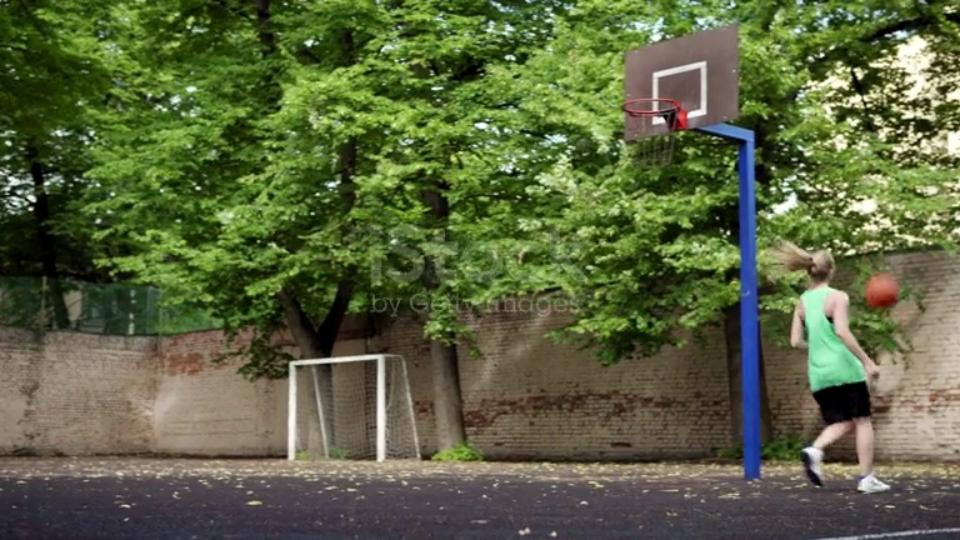hoop: (620, 98, 685, 121)
